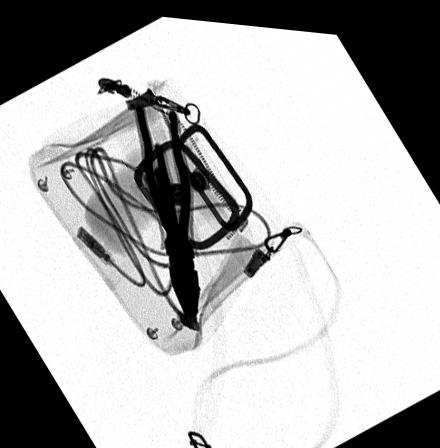Pliers: (130, 97, 202, 319)
